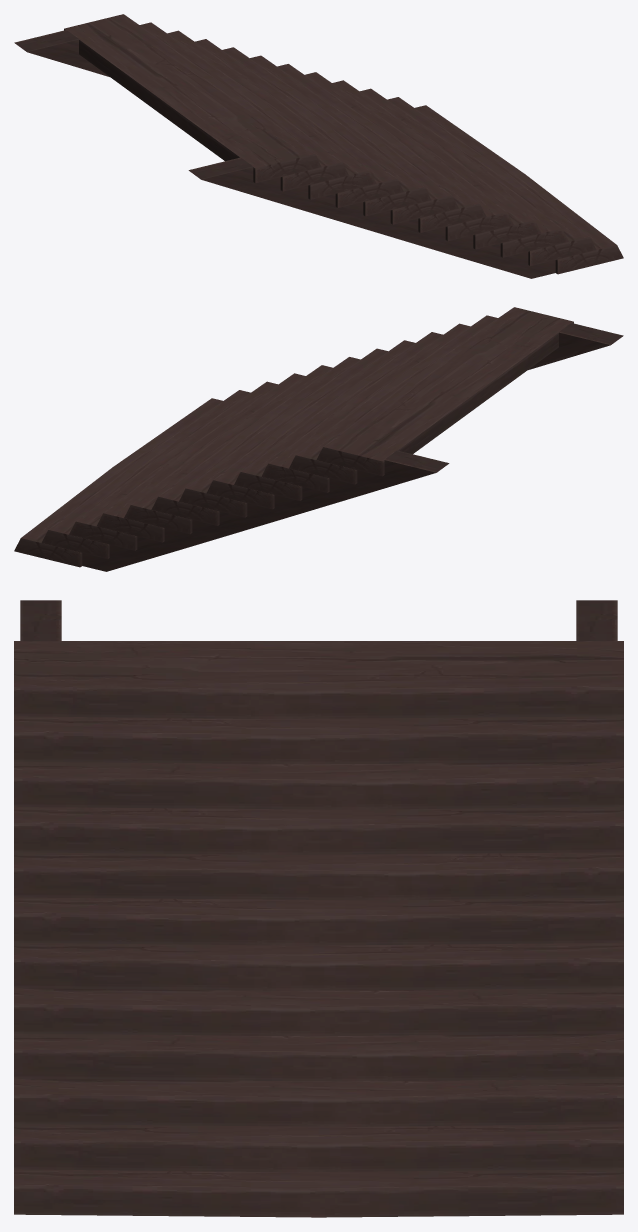
3 renders of one model, top to bottom at view 1: azimuth 30°, elevation 25°; view 2: azimuth 150°, elevation 25°; view 3: azimuth 270°, elevation 25°, orthographic. The views are drawn at different scales.
Size of the model in its own units: 2.51 by 1.02 by 1.96.
Materials: 1 (1 with a texture image).
